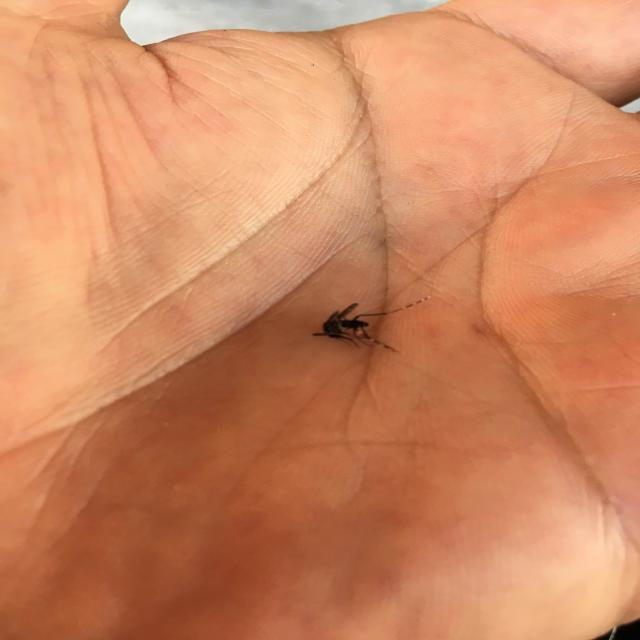albopictus: (302, 287, 433, 359)
